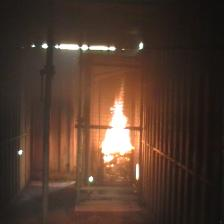fire: (100, 80, 135, 162)
